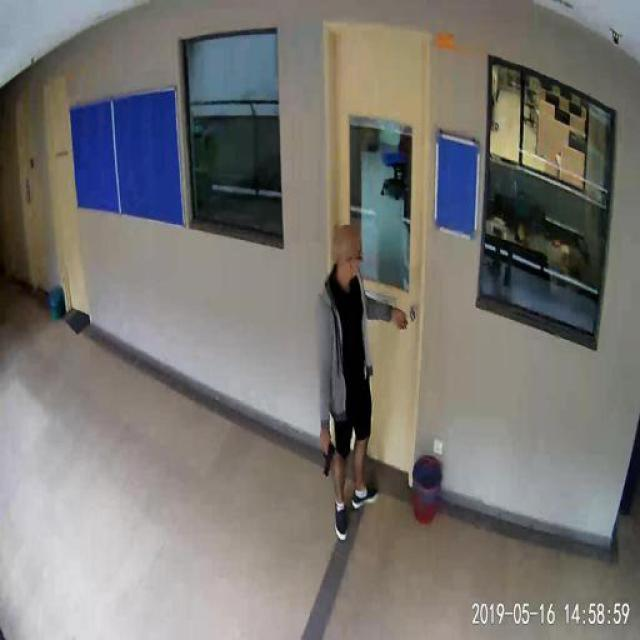weapon: (318, 435, 336, 477)
